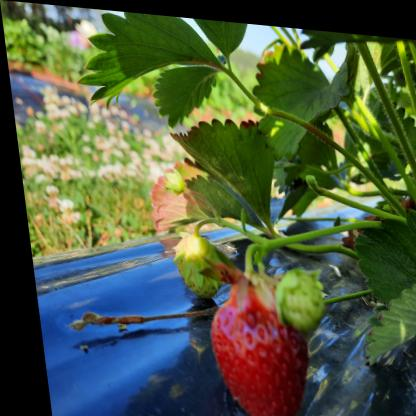ripe: (202, 295, 297, 416)
unripe: (269, 255, 319, 327), (174, 237, 214, 287)
